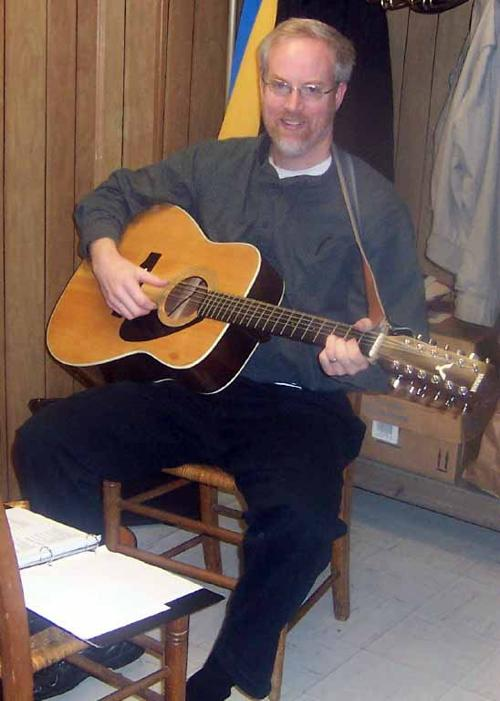person: (11, 18, 430, 701)
